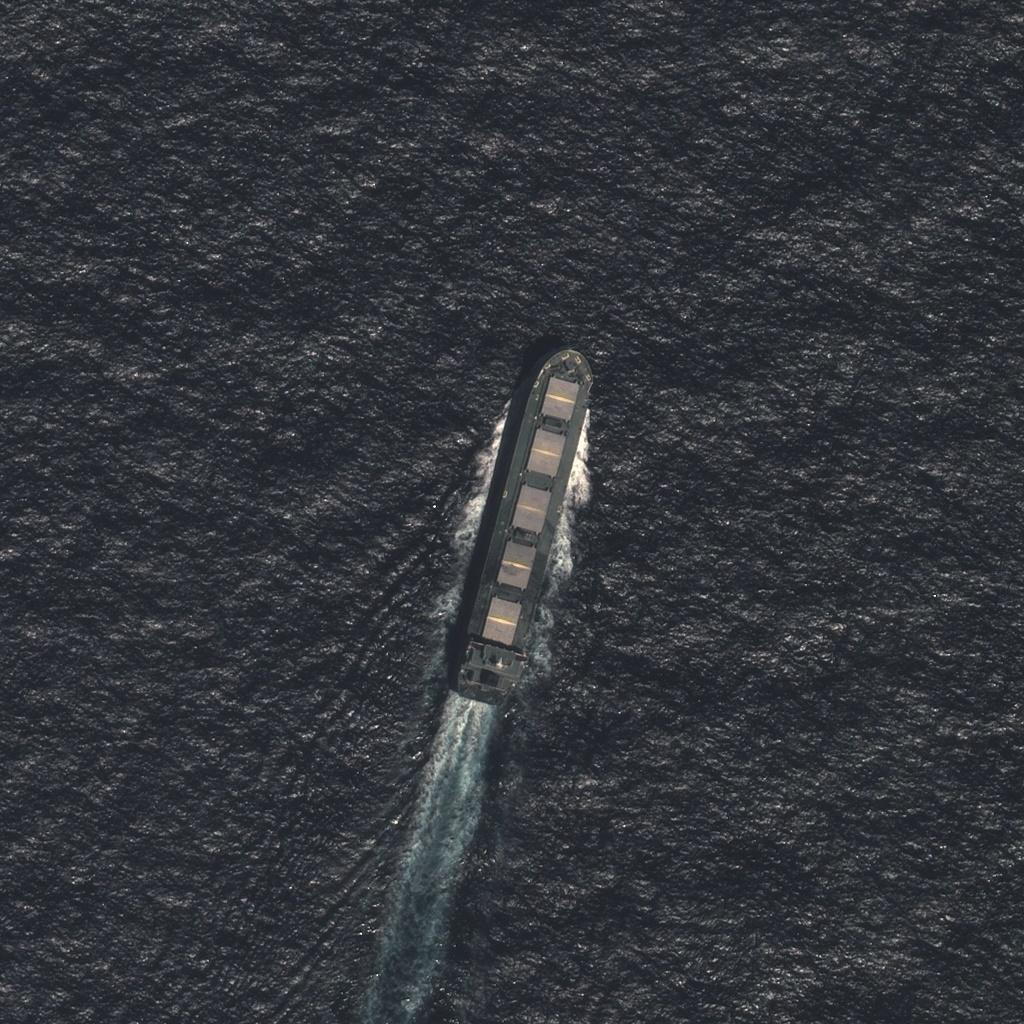ship: (449, 342, 598, 714)
